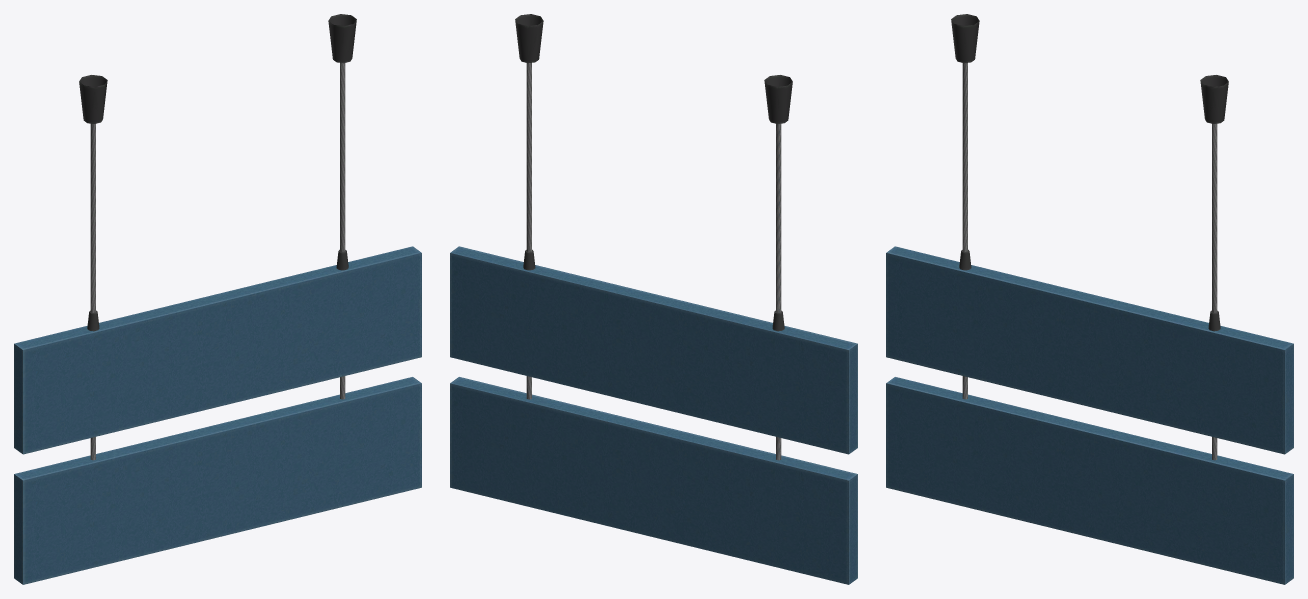
File: hanging_hospital_sign_double.dae
3 renders of one model, left to right at view 1: azimuth 30°, elevation 25°; view 2: azimuth 150°, elevation 25°; view 3: azimuth 330°, elevation 25°, orthographic.
Parts seen in each view (by area): view 1: low; view 2: low; view 3: low.
Part boxes in pixels (x1,y1,x2,y2): low: (14, 14, 421, 584); low: (450, 14, 857, 584); low: (886, 14, 1293, 584).
Size of the model in its own units: 1 by 1.16 by 0.0577.
